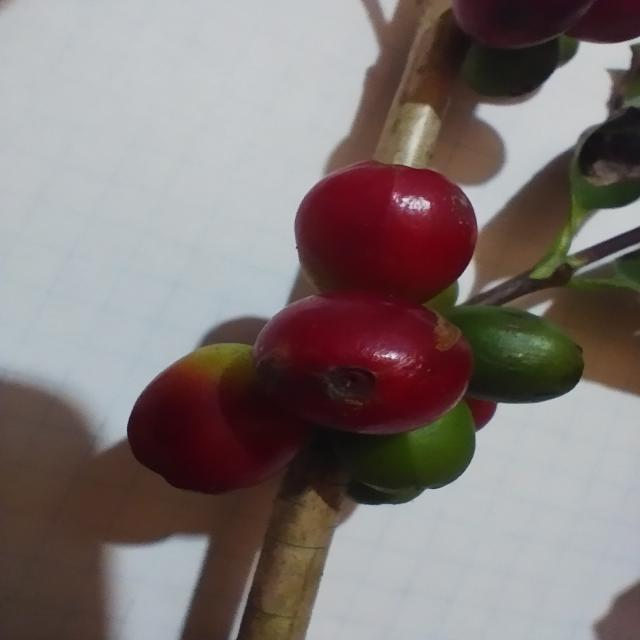Infectado: (252, 291, 475, 442)
Sano: (293, 159, 481, 315), (129, 342, 313, 496), (444, 306, 585, 406)
